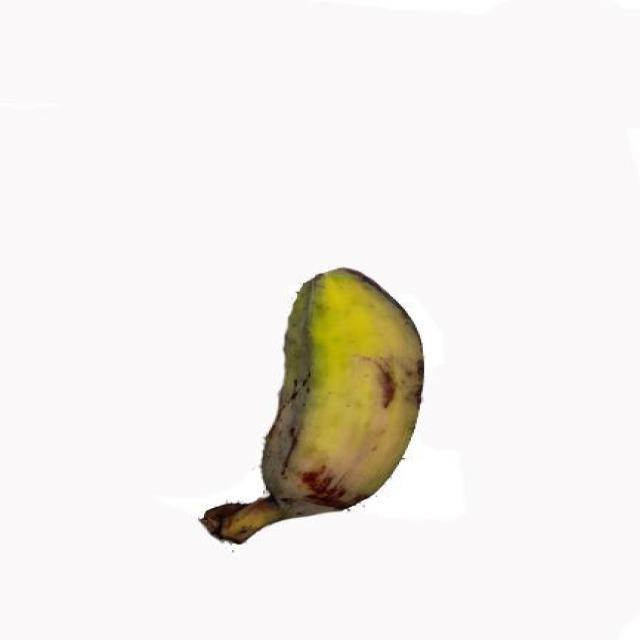banana: (194, 265, 425, 549)
